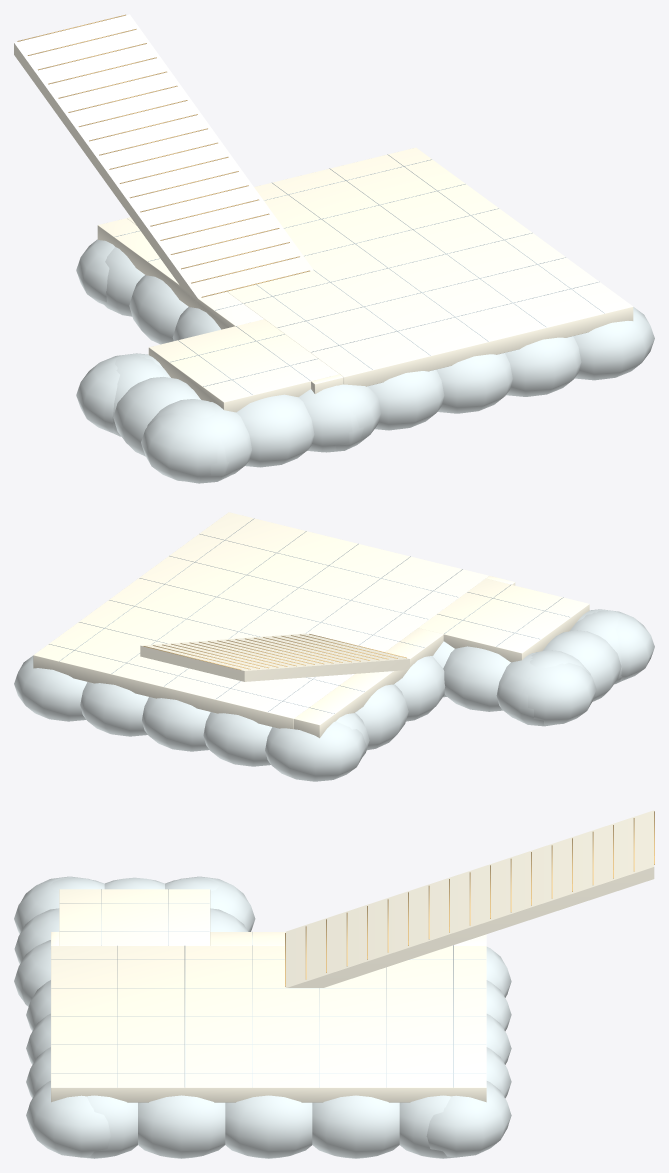
File: sky_sector_aerie.glb
The picture shows the model from 3 angles, top to bottom: view 1: azimuth 30°, elevation 25°; view 2: azimuth 150°, elevation 25°; view 3: azimuth 270°, elevation 25°; orthographic projection. The views are drawn at different scales.
Visible parts, largest first — view 1: sky_sector_aerie_surface; view 2: sky_sector_aerie_surface; view 3: sky_sector_aerie_surface.
Part boxes in pixels (x1,y1,x2,y2): sky_sector_aerie_surface: (14,14,654,483); sky_sector_aerie_surface: (14,512,654,781); sky_sector_aerie_surface: (14,810,654,1158).
Size of the model in its own units: 34.96 by 12.98 by 38.23.
